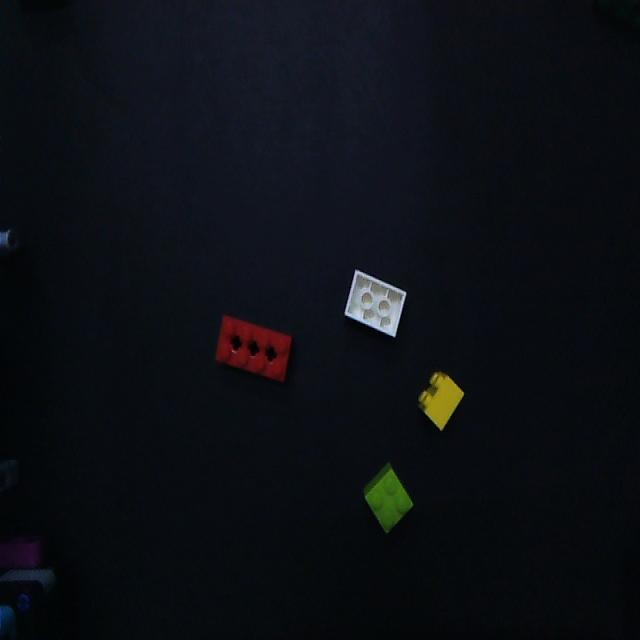lego_brick: (217, 316, 291, 380), (346, 269, 406, 336), (365, 464, 412, 531), (419, 372, 463, 429)
